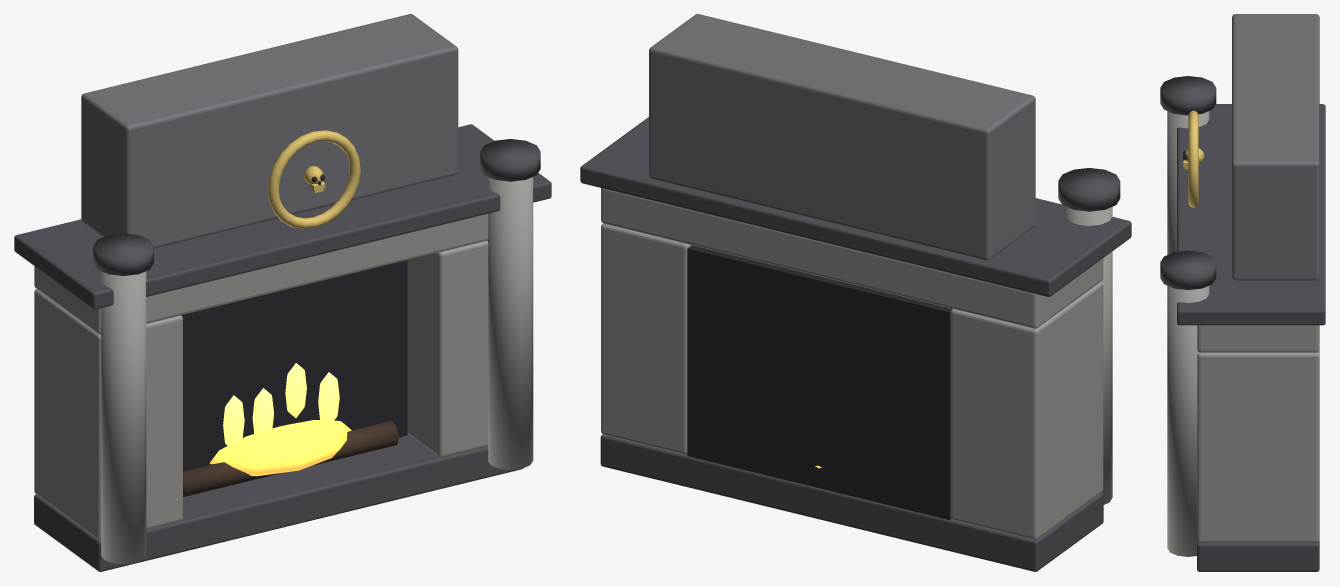
File: fireplace_grand_hearth.glb
3 renders of one model, left to right at view 1: azimuth 30°, elevation 25°; view 2: azimuth 150°, elevation 25°; view 3: azimuth 270°, elevation 25°, orthographic. The views are drawn at different scales.
Parts seen in each view (by area): view 1: GD_fireplace_grand_hearth__m1, GD_fireplace_grand_hearth__m7, GD_fireplace_grand_hearth__m0, GD_fireplace_grand_hearth__m5, GD_fireplace_grand_hearth__m3, GD_fireplace_grand_hearth__m2, GD_fireplace_grand_hearth__m4, GD_fireplace_grand_hearth__m8; view 2: GD_fireplace_grand_hearth__m1, GD_fireplace_grand_hearth__m7, GD_fireplace_grand_hearth__m5, GD_fireplace_grand_hearth__m0; view 3: GD_fireplace_grand_hearth__m1, GD_fireplace_grand_hearth__m7, GD_fireplace_grand_hearth__m0, GD_fireplace_grand_hearth__m4.
Part boxes in pixels (bbox=[...]): GD_fireplace_grand_hearth__m1: bbox=[34, 177, 533, 564]; GD_fireplace_grand_hearth__m7: bbox=[81, 14, 458, 248]; GD_fireplace_grand_hearth__m0: bbox=[14, 124, 551, 571]; GD_fireplace_grand_hearth__m5: bbox=[181, 174, 407, 470]; GD_fireplace_grand_hearth__m3: bbox=[210, 420, 351, 476]; GD_fireplace_grand_hearth__m2: bbox=[223, 363, 339, 445]; GD_fireplace_grand_hearth__m4: bbox=[267, 130, 360, 228]; GD_fireplace_grand_hearth__m8: bbox=[183, 421, 398, 496]; GD_fireplace_grand_hearth__m1: bbox=[601, 188, 1112, 539]; GD_fireplace_grand_hearth__m7: bbox=[649, 14, 1035, 260]; GD_fireplace_grand_hearth__m5: bbox=[687, 245, 952, 519]; GD_fireplace_grand_hearth__m0: bbox=[580, 117, 1131, 571]; GD_fireplace_grand_hearth__m1: bbox=[1167, 111, 1319, 556]; GD_fireplace_grand_hearth__m7: bbox=[1232, 14, 1319, 280]; GD_fireplace_grand_hearth__m0: bbox=[1160, 76, 1325, 571]; GD_fireplace_grand_hearth__m4: bbox=[1183, 110, 1204, 207].
Size of the model in its own units: 2.8 by 2.45 by 0.945.
